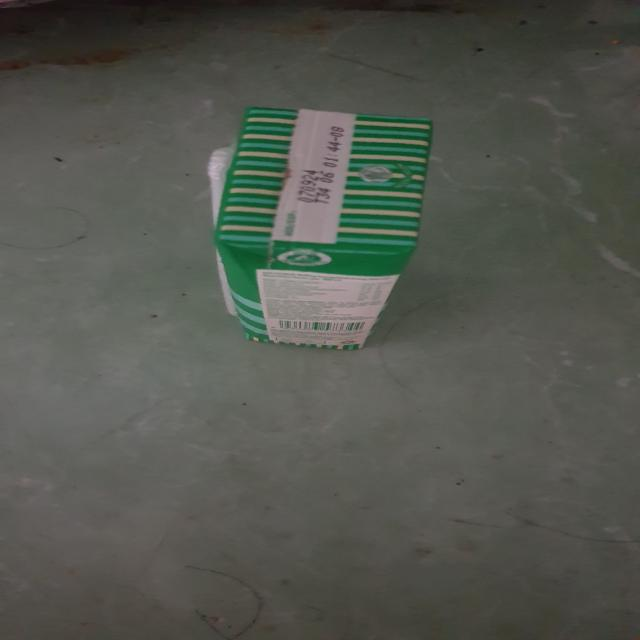Vina: (209, 104, 439, 355)
